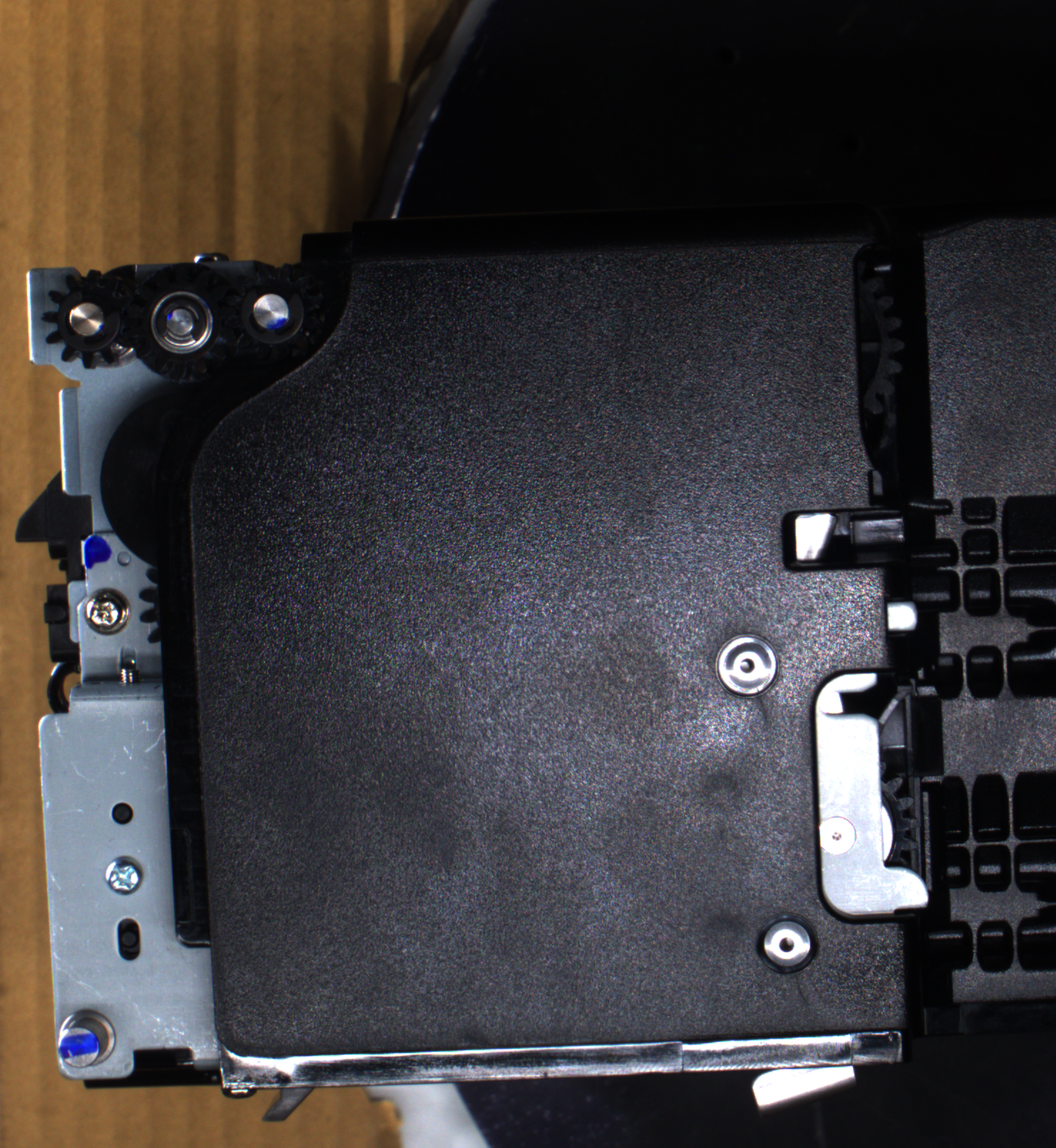centre_pin_presence: (745, 1047, 861, 1113)
centre_plate_presence: (807, 661, 940, 926)
centre_screw_presence: (711, 628, 784, 703), (751, 907, 823, 980)
gear1_presence: (39, 265, 140, 371)
gear2_presence: (124, 263, 237, 383)
gear3_presence: (221, 260, 324, 366)
side_screw_presence: (80, 585, 132, 637), (101, 855, 147, 897)
slanting_pin_presence: (52, 1005, 124, 1076)
